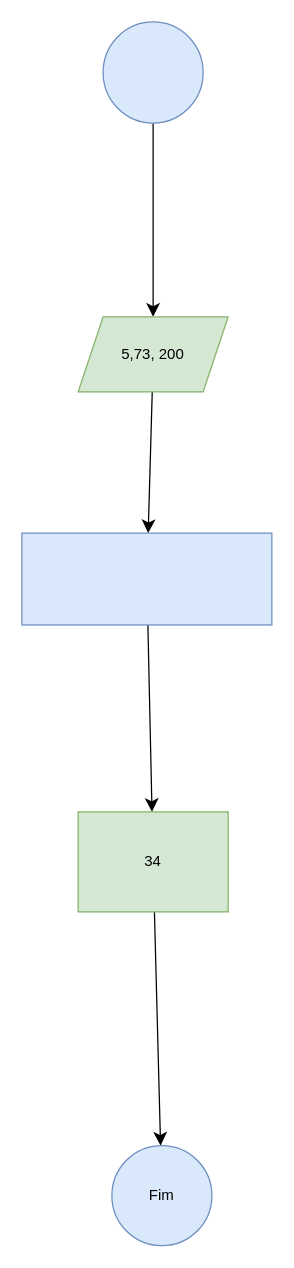
Some shapes in this 294 by 1268 pixel diagram are drawn without their labels. Here are the shapes that lost their labels. From the top down, the centre of each, then its label:
At pixel 152 72: "Inicio".
At pixel 146 578: "Resultado = (valorreal/cotação)".
